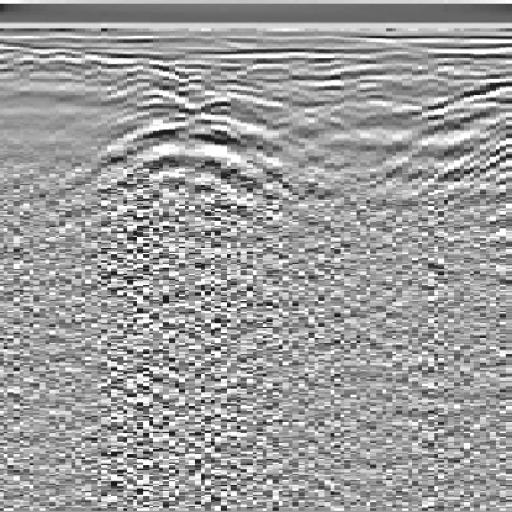metalic: (84, 53, 298, 293)
